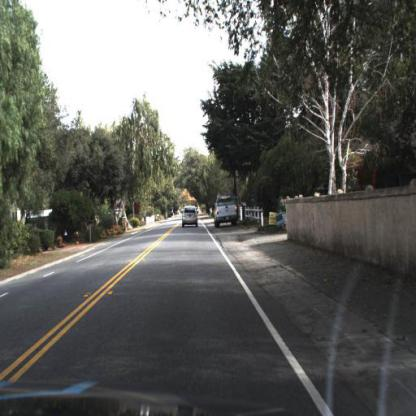car: (215, 197, 241, 225), (181, 205, 200, 229)
